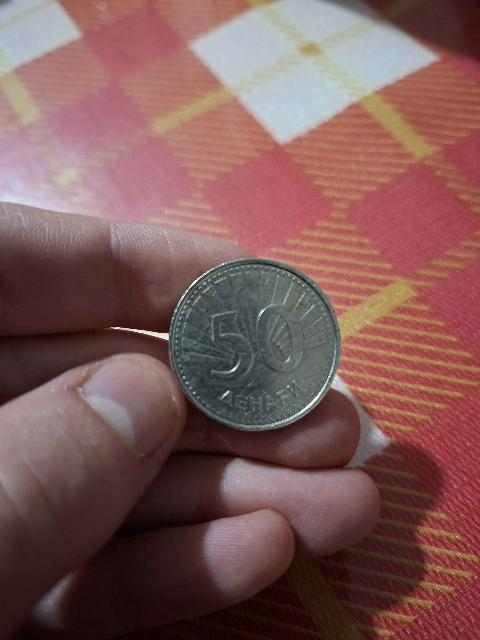50_coin: (170, 259, 340, 430)
